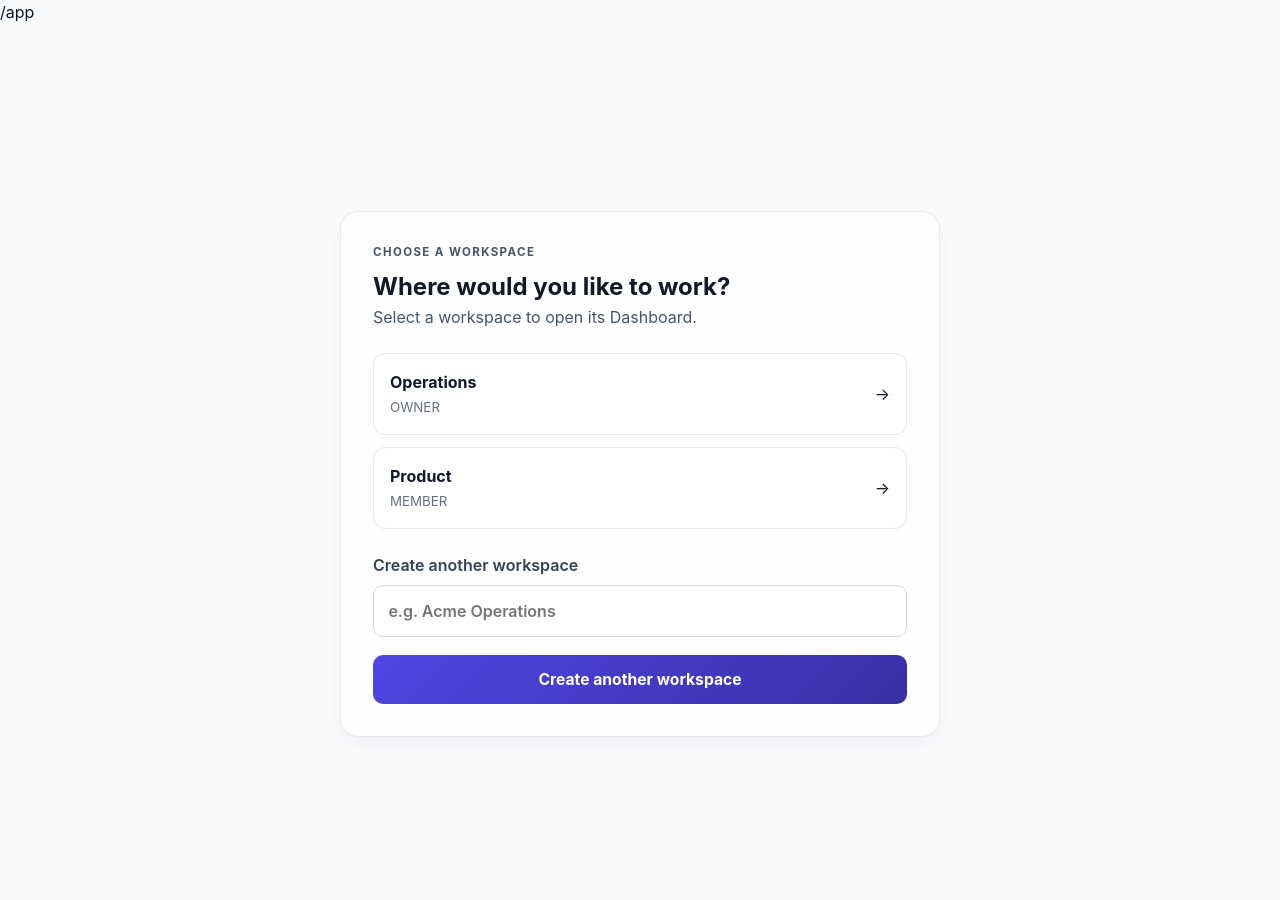
Scenario: F2 workspace behavior › switches workspaces through the real dashboard route
The width and height of the screenshot is (1280, 900).
What coordinates should you click on to do the following:
click the button "Product MEMBER →"
I would click on:
 (421, 476)
Its box is top-left (373, 447), bottom-right (907, 529).
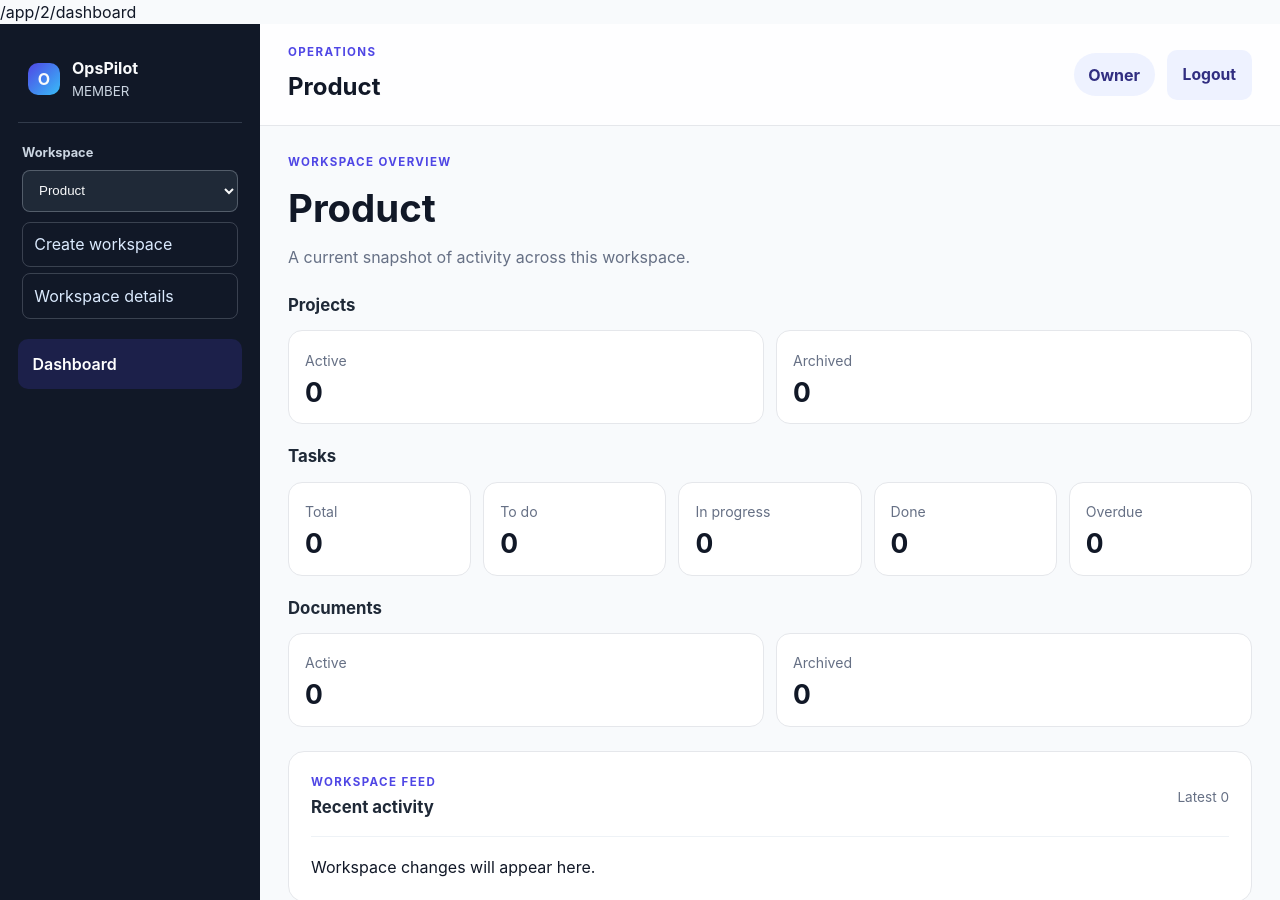
Check: the number of headings "Product" is 2, box top-left (288, 69), bottom-right (380, 105); top-left (288, 184), bottom-right (436, 230)
Check: the dropdown named "Current workspace" shows "Product", box top-left (22, 170), bottom-right (238, 212)
